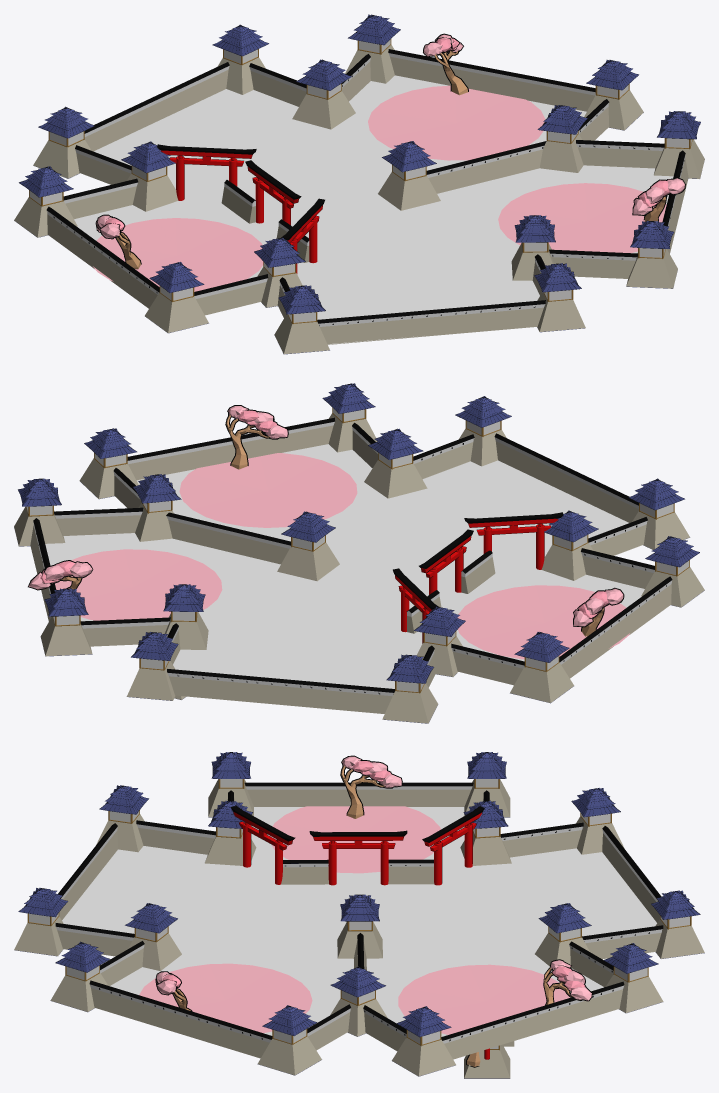
The model's file is japanesemaplarge.fbx.
3 renders of one model, top to bottom at view 1: azimuth 30°, elevation 25°; view 2: azimuth 150°, elevation 25°; view 3: azimuth 270°, elevation 25°, orthographic. The views are drawn at different scales.
Visible parts, largest first — view 1: FloorPlanPaintable, SakuraCircleRight, SakuraCircleTop, SakuraCircleLeft, Wallhub.006|Roof1|Dupli|, Wallhub.002|Roof1|Dupli|, Wallhub.015|Roof1|Dupli|, Wallhub.013|Roof1|Dupli|, Wallhub.011|Roof1|Dupli|, Wallhub.008|Roof1|Dupli|, Wallhub.003|Roof1|Dupli|, Wallhub.014|Roof1|Dupli| (+46 smaller); view 2: FloorPlanPaintable, SakuraCircleLeft, SakuraCircleRight, SakuraCircleTop, Wallhub.005|Roof1|Dupli|, Wallhub|Roof1|Dupli|, Wallhub.015|Roof1|Dupli|, Wallhub.008|Roof1|Dupli|, Wallhub.010|Roof1|Dupli|, Wallhub.004|Roof1|Dupli|, Wallhub.007|Roof1|Dupli|, Wallhub.006|Roof1|Dupli| (+47 smaller); view 3: FloorPlanPaintable, SakuraCircleRight, SakuraCircleLeft, SakuraCircleTop, Wallhub.012|Roof1|Dupli|, Wallhub.009|Roof1|Dupli|, Wallhub.010|Roof1|Dupli|, Wallhub.011|Roof1|Dupli|, Wallhub.014|Roof1|Dupli|, Wallhub.007|Roof1|Dupli|, Wallhub|Roof1|Dupli|, Wallhub.015|Roof1|Dupli| (+52 smaller).
Part boxes in pixels (<box>): FloorPlanPaintable: <box>74,75,673,344</box>; SakuraCircleRight: <box>368,85,545,160</box>; SakuraCircleTop: <box>93,218,263,291</box>; SakuraCircleLeft: <box>498,183,666,252</box>; Wallhub.006|Roof1|Dupli|: <box>145,262,208,333</box>; Wallhub.002|Roof1|Dupli|: <box>292,59,355,129</box>; Wallhub.015|Roof1|Dupli|: <box>378,141,440,210</box>; Wallhub.013|Roof1|Dupli|: <box>274,285,329,354</box>; Wallhub.011|Roof1|Dupli|: <box>626,220,677,288</box>; Wallhub.008|Roof1|Dupli|: <box>33,106,94,178</box>; Wallhub.003|Roof1|Dupli|: <box>121,141,178,211</box>; Wallhub.014|Roof1|Dupli|: <box>534,263,585,332</box>; FloorPlanPaintable: <box>45,444,644,688</box>; SakuraCircleLeft: <box>179,453,357,527</box>; SakuraCircleRight: <box>55,549,222,620</box>; SakuraCircleTop: <box>457,585,629,659</box>; Wallhub.005|Roof1|Dupli|: <box>510,632,574,703</box>; Wallhub|Roof1|Dupli|: <box>364,428,427,498</box>; Wallhub.015|Roof1|Dupli|: <box>277,511,339,581</box>; Wallhub.008|Roof1|Dupli|: <box>382,654,438,723</box>; Wallhub.010|Roof1|Dupli|: <box>40,588,92,656</box>; Wallhub.004|Roof1|Dupli|: <box>541,510,598,580</box>; Wallhub.007|Roof1|Dupli|: <box>126,632,178,700</box>; Wallhub.006|Roof1|Dupli|: <box>641,536,704,607</box>; FloorPlanPaintable: <box>62,807,656,1036</box>; SakuraCircleRight: <box>398,964,570,1034</box>; SakuraCircleLeft: <box>139,963,312,1033</box>; SakuraCircleTop: <box>269,806,441,873</box>; Wallhub.012|Roof1|Dupli|: <box>257,1005,321,1075</box>; Wallhub.009|Roof1|Dupli|: <box>392,1006,455,1076</box>; Wallhub.010|Roof1|Dupli|: <box>604,943,663,1013</box>; Wallhub.011|Roof1|Dupli|: <box>50,941,110,1012</box>; Wallhub.014|Roof1|Dupli|: <box>14,888,67,956</box>; Wallhub.007|Roof1|Dupli|: <box>651,890,704,958</box>; Wallhub|Roof1|Dupli|: <box>125,903,181,970</box>; Wallhub.015|Roof1|Dupli|: <box>337,894,382,958</box>.
Bounding box in the file's own units: 2983 × 670 × 2846.
